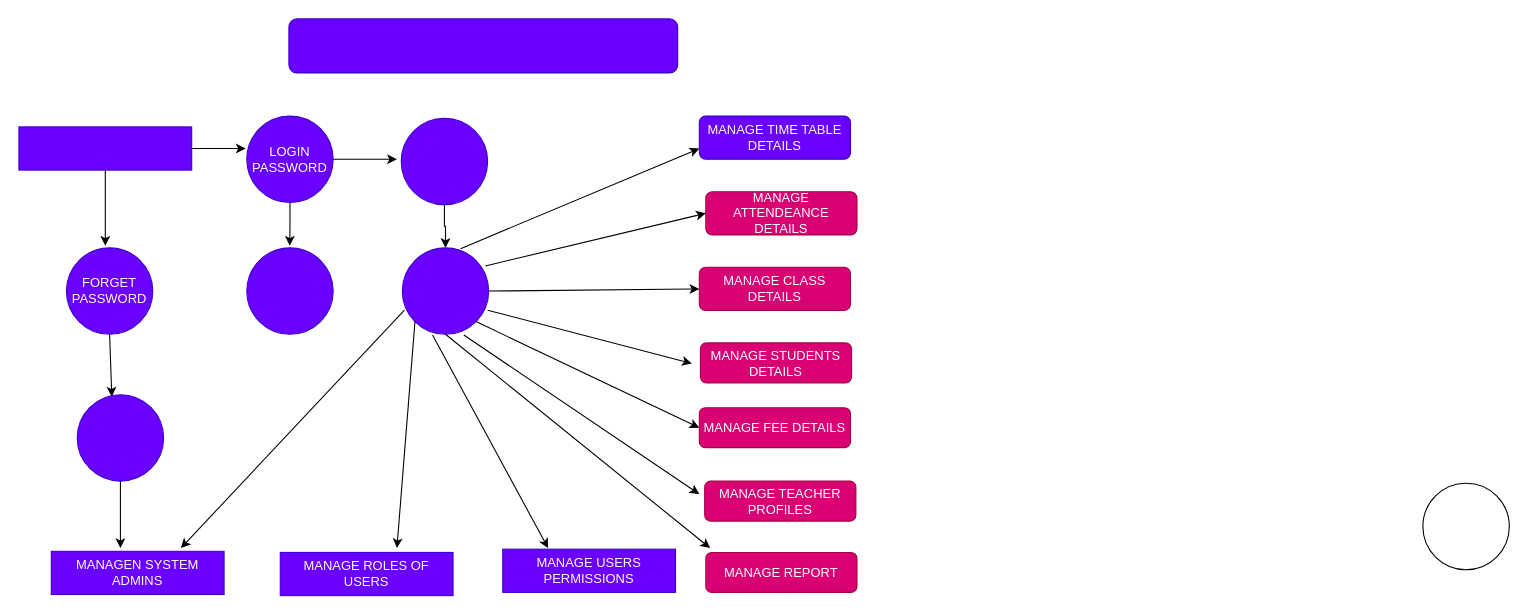
The diagram is 1528 pixels wide and 615 high, and some of its shapes have lost their labels. The shapes that lost their labels are listed below. From the top down, each one's centre as x and y in pixels, then its label:
(x=483, y=45): STUDENT INFORMATION SYSYEM
(x=105, y=148): ADMIN
(x=444, y=161): CHECK ROLES OF ACCESS
(x=289, y=290): CHECK CREDENTIALS
(x=445, y=290): MANAGE MODULES
(x=120, y=437): SEND EMAIL TO USERS
